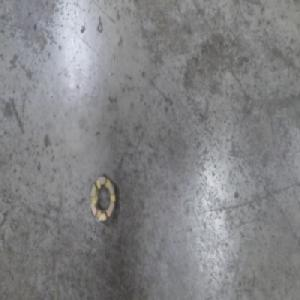Nut: (88, 174, 116, 226)
